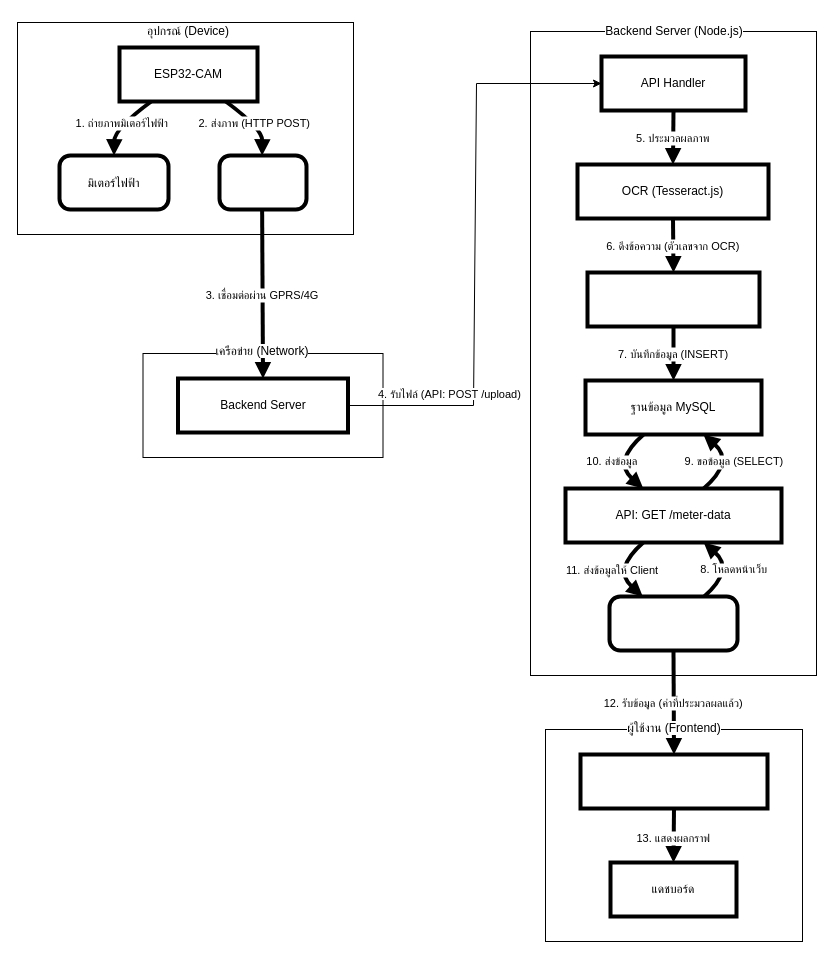
Some shapes in this 834 by 959 pixel diagram are drawn without their labels. Here are the shapes that lost their labels. From the top down, the centre of each, then its label:
At point 262,182: "SIM800L".
At point 673,299: "Data Processing".
At point 673,623: "เบราว์เซอร์ผู้ใช้".
At point 673,781: "Google Charts API".
